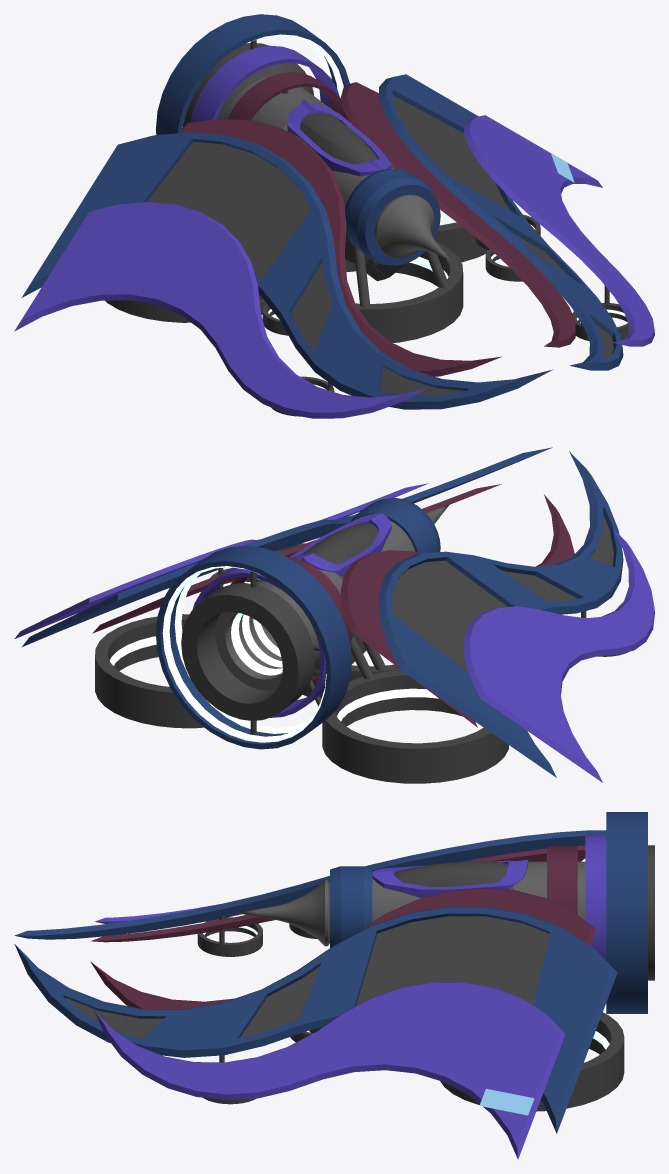
The model's file is Hal.fbx.
3 views of the same model, one above another, from view 1: azimuth 30°, elevation 25°; view 2: azimuth 150°, elevation 25°; view 3: azimuth 270°, elevation 25° (orthographic).
Visible parts, largest first — view 1: FINAL; view 2: FINAL; view 3: FINAL.
Boxes of the visible parts, x1,y1,x2,y2 form: FINAL: (14,14,654,418); FINAL: (14,447,654,783); FINAL: (14,812,654,1159).
Bounding box in the file's own units: 2637 × 838 × 2492.
